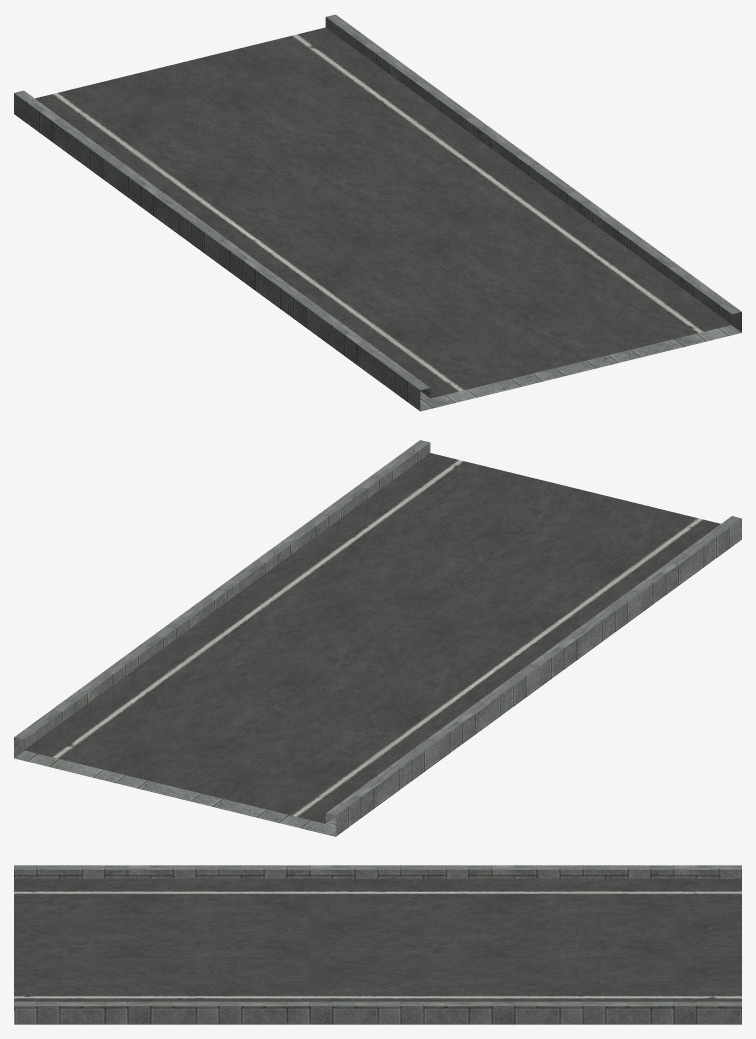
The model's file is Straight Oneway Very Small Sides.fbx.
3 renders of one model, top to bottom at view 1: azimuth 30°, elevation 25°; view 2: azimuth 150°, elevation 25°; view 3: azimuth 270°, elevation 25°, orthographic. The views are drawn at different scales.
Visible parts, largest first — view 1: Plane; view 2: Plane; view 3: Plane.
Part boxes in pixels (<box>): Plane: <box>14,14,741,411</box>; Plane: <box>14,440,741,836</box>; Plane: <box>14,865,741,1024</box>.
Size of the model in its own units: 640 by 40 by 1400.
